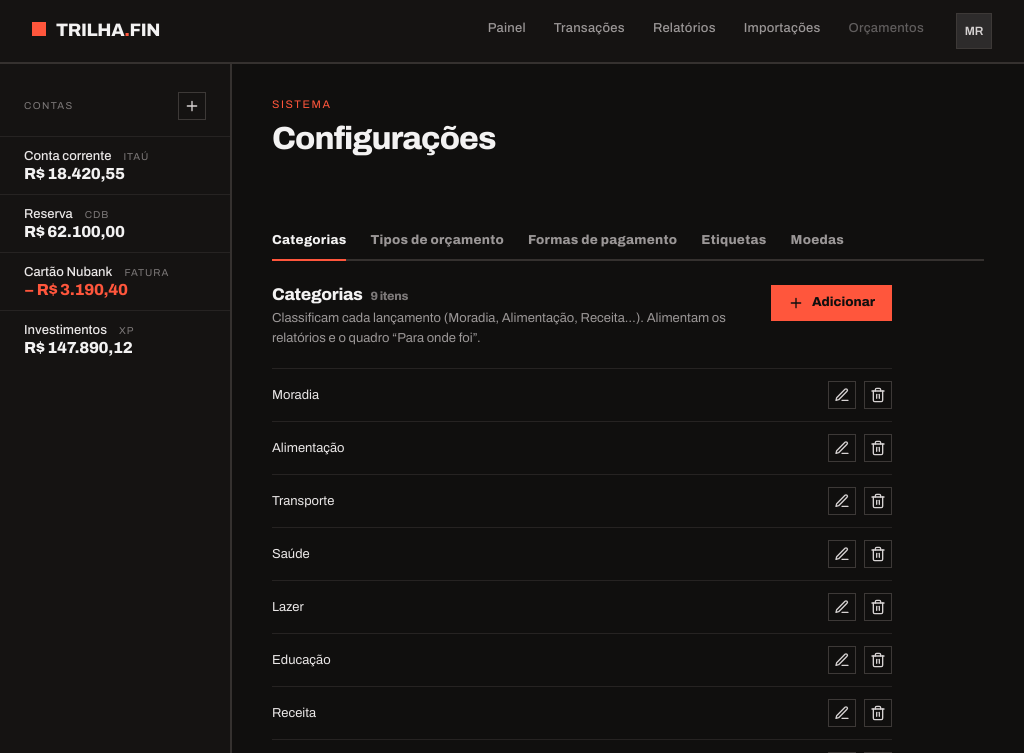
Test: SettingsScreen › remove um item com confirmação
Step 1. Click the button named "remover Lazer" → (878, 607), box x1=864 y1=593 x2=892 y2=621
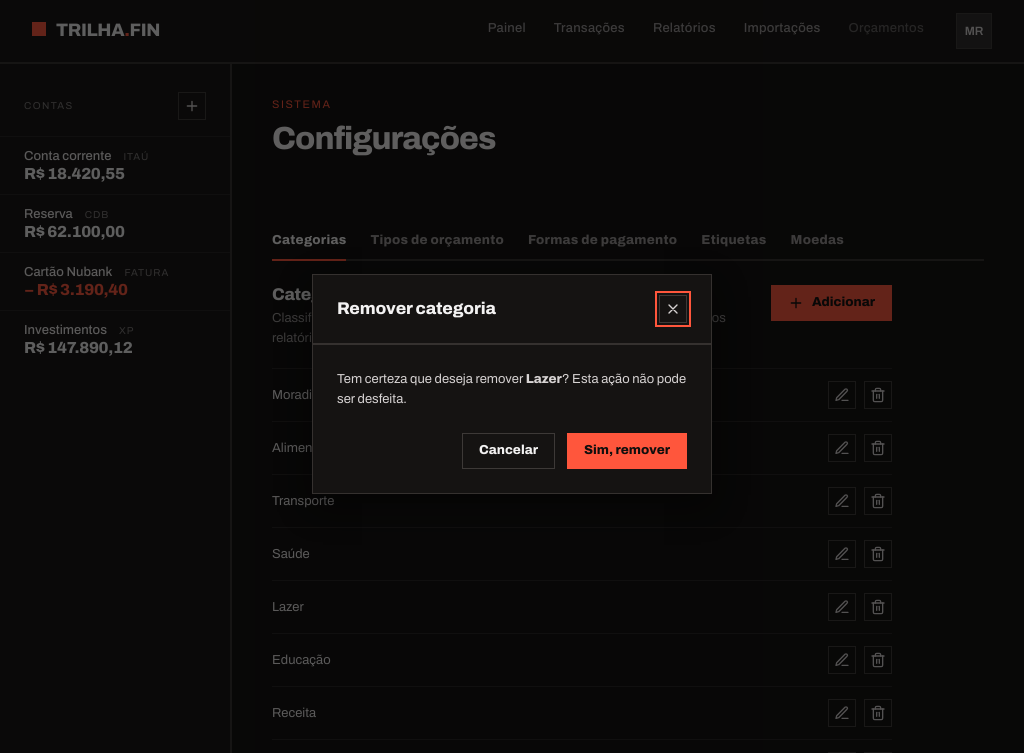
Expected: the text "Tem certeza" is shown, x1=337 y1=372 x2=526 y2=386
Step 2. Click the button "Sim, remover" → (627, 451), box x1=567 y1=433 x2=687 y2=469
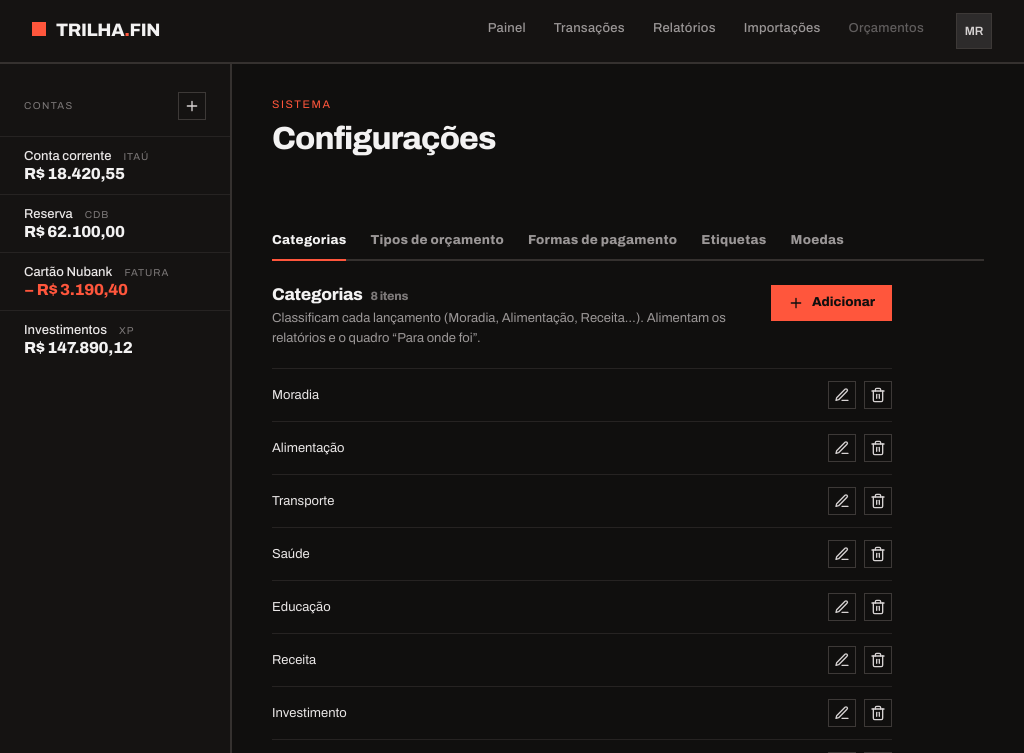
Expected: the dialog is gone
Expected: the text "Lazer" is gone
